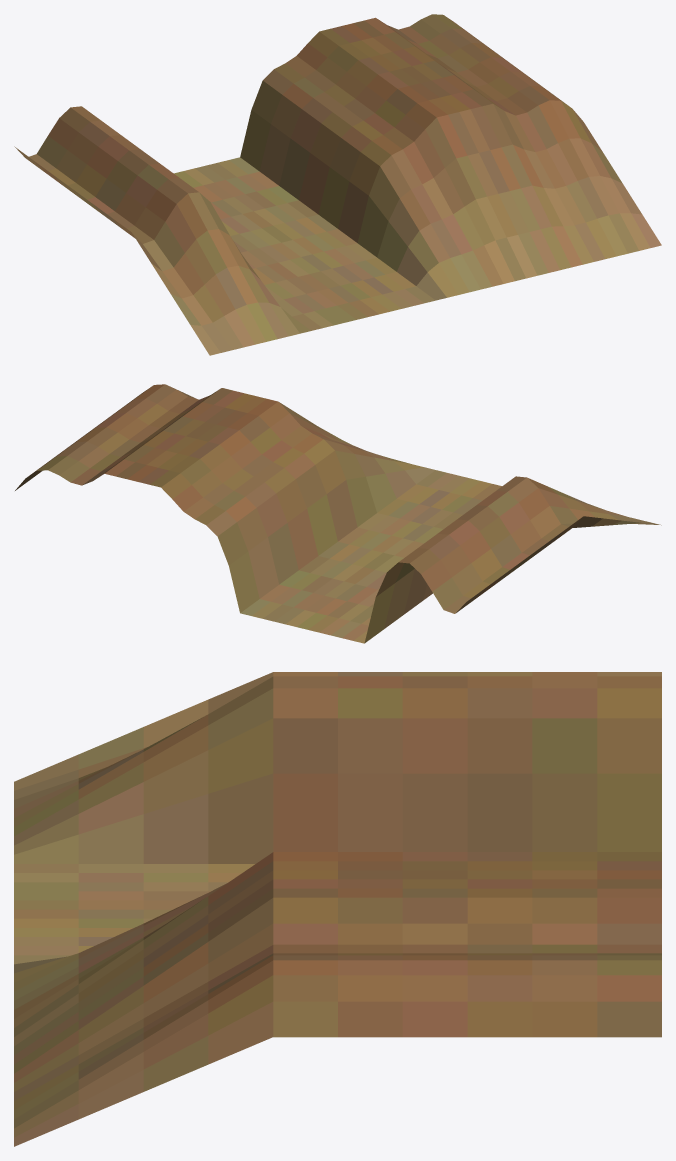
The model's file is bg_desert_ridge_2_idle.glb.
3 renders of one model, top to bottom at view 1: azimuth 30°, elevation 25°; view 2: azimuth 150°, elevation 25°; view 3: azimuth 270°, elevation 25°, orthographic. The views are drawn at different scales.
Parts seen in each view (by area): view 1: ridge.001; view 2: ridge.001; view 3: ridge.001.
Boxes of the visible parts, box(x1,y1,x2,y2) form: ridge.001: box(14, 14, 661, 355); ridge.001: box(15, 384, 661, 643); ridge.001: box(14, 672, 661, 1146).
Bounding box in the file's own units: 40 × 9 × 30.
